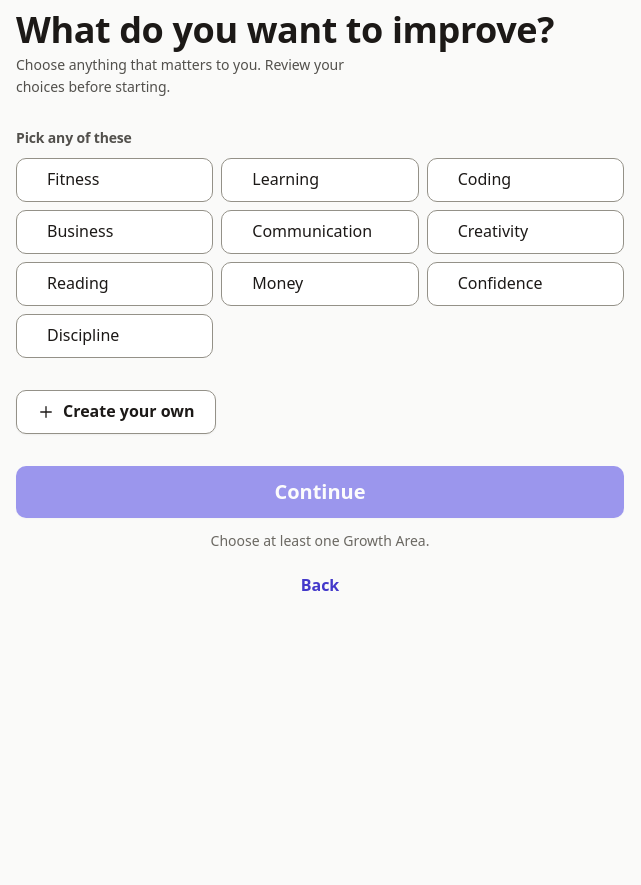
Test: creating your own growth area › accepts emoji alongside real words
This screenshot has width=641, height=885.
Click the button "Create your own": (116, 412) [16,390,216,434]
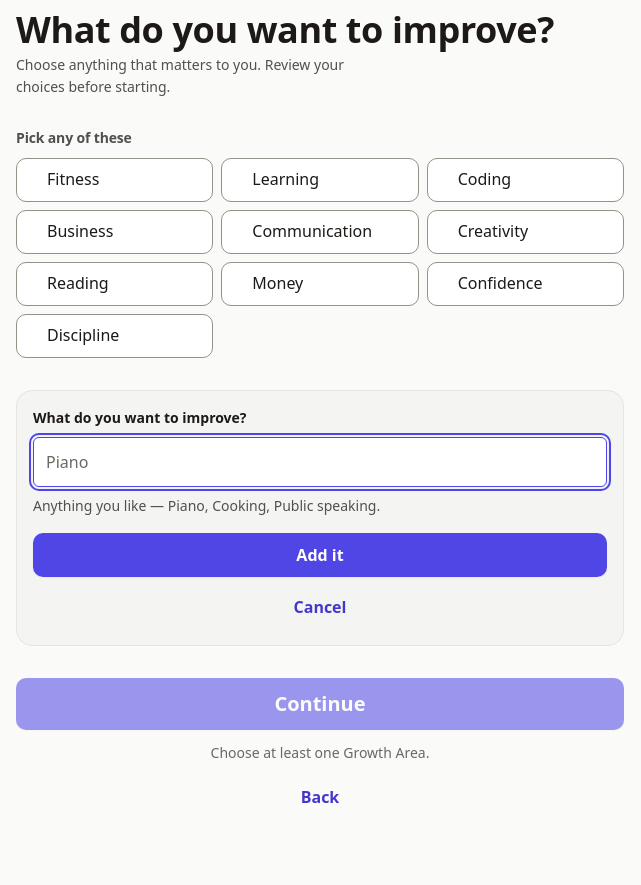
In the field labelled "What do you want to improve?": (320, 462) [33,436,607,487], type "Piano 🎹"
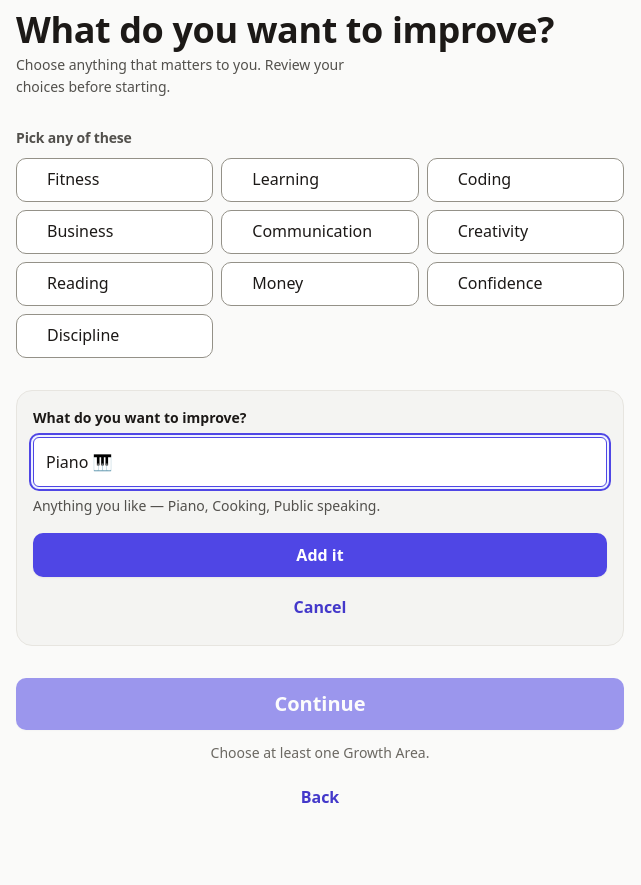
Click the button "Add it": (320, 555) [33,533,607,577]
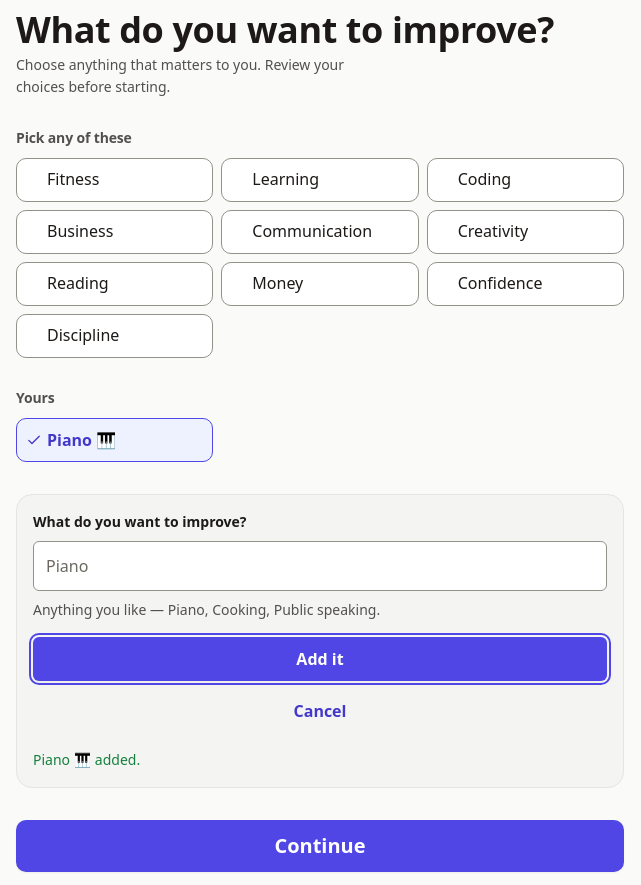
Expected: the button "Piano 🎹" is shown, [16,418,213,462]
